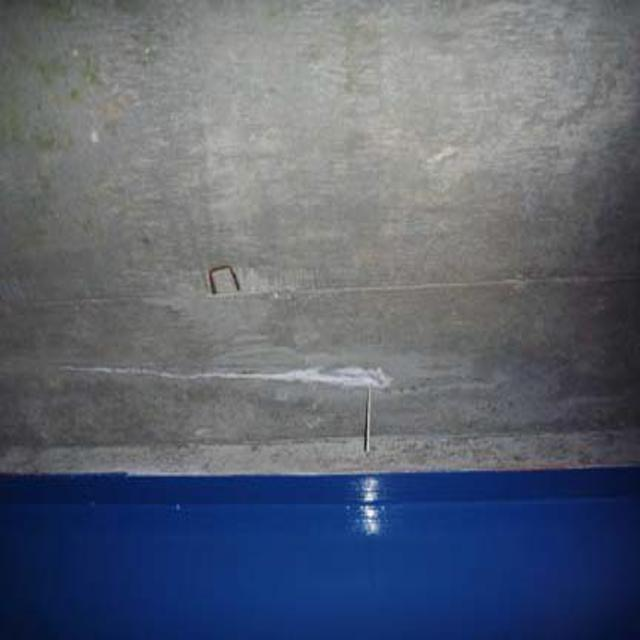freelime: (67, 343, 423, 406)
